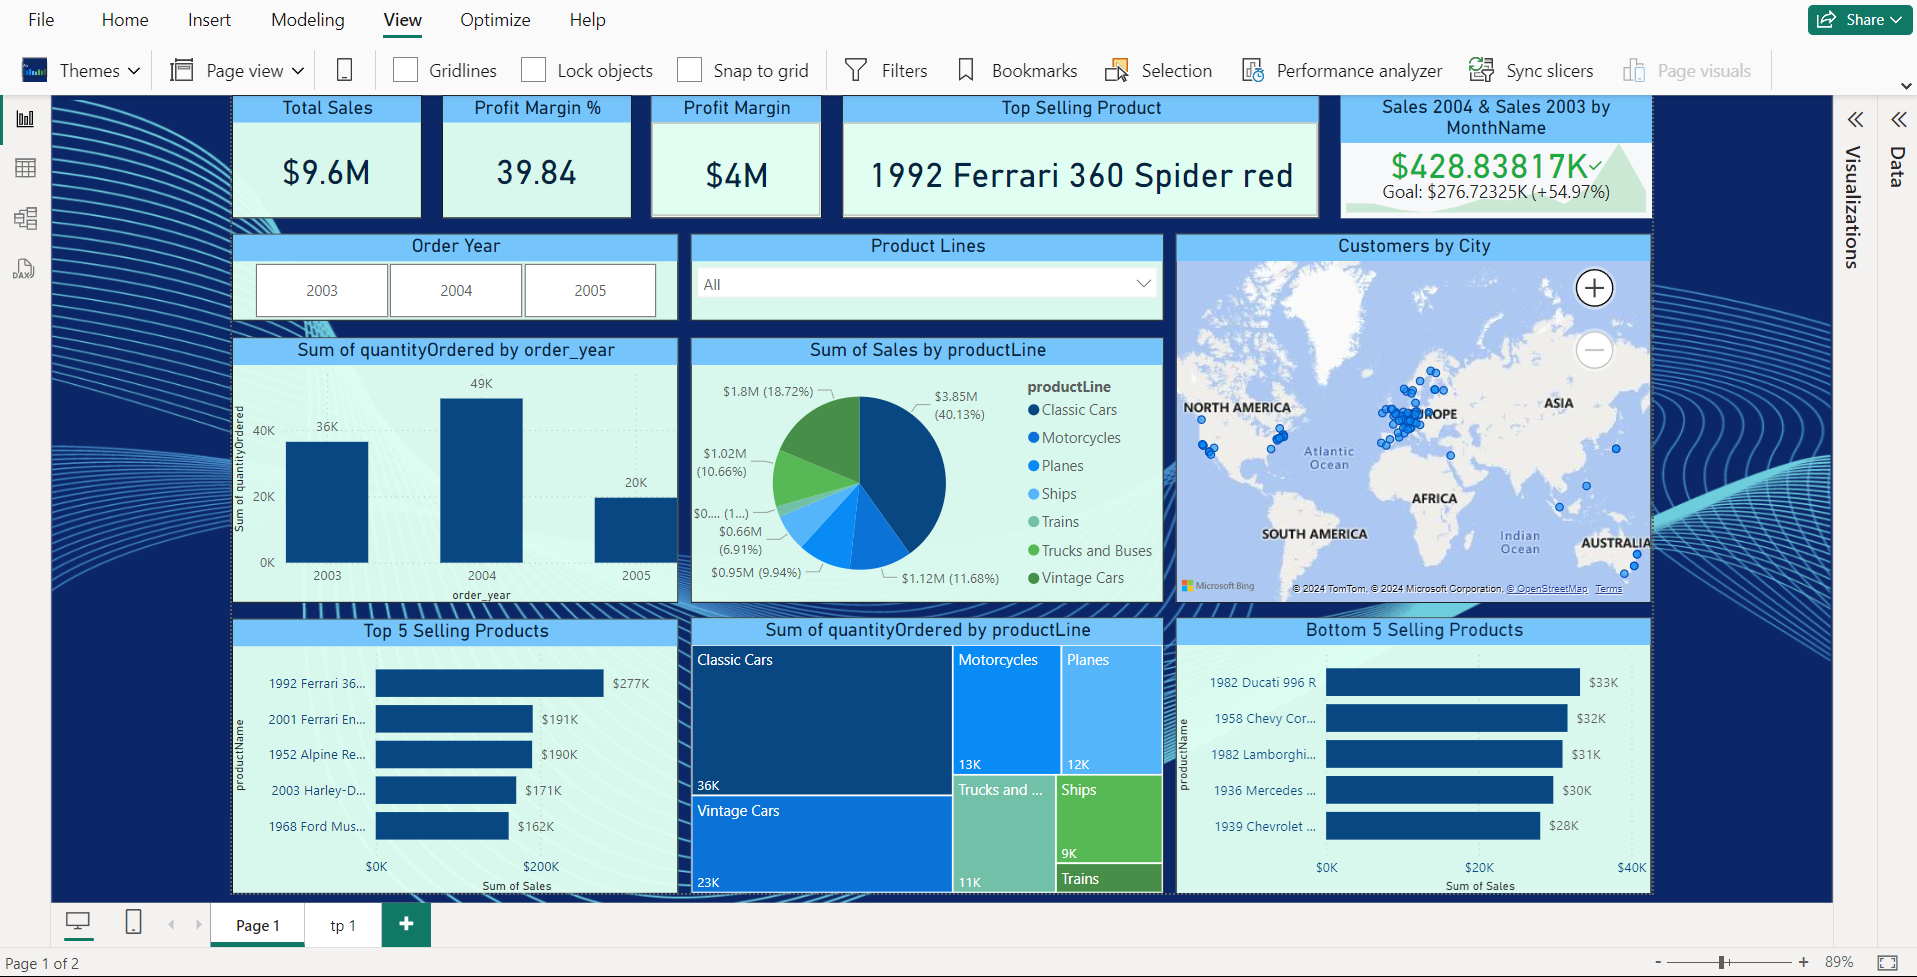

This screenshot's page, from the dashboard's own definition file:
{"tool":"powerbi","page":{"name":"Page 1","canvas":[1280,720],"ordinal":0},"visuals":[{"type":"barChart","title":"Top 5 Selling Products","fields":{"Category":["products.productName"],"Y":["Sum(order details.Sales)"]},"box":[0,472.2,402.5,248.1],"z":0},{"type":"pieChart","fields":{"Y":["Sum(order details.Sales)"],"Series":["products.productLine"]},"box":[413.9,219,426.6,239.2],"z":1000},{"type":"cardVisual","title":"Profit Margin","fields":{"Data":["order details.total_profit"]},"box":[377.8,0,154.2,111.1],"z":2000},{"type":"slicer","title":"Order Year","fields":{"Values":["orders.order_year"]},"box":[0,125.3,402.5,78.5],"z":3000},{"type":"kpi","title":"Sales 2004 & Sales 2003 by MonthName","fields":{"TrendLine":["orders.MonthName"],"Goal":["orders.Sales 2003"],"Indicator":["orders.Sales 2004"]},"box":[1000,0,280.6,111.1],"z":4000},{"type":"cardVisual","title":"Top Selling Product","fields":{"Data":["order details.MostOrderedProdact"]},"box":[550,0,430.6,111.1],"z":5000},{"type":"map","title":"Customers by City","fields":{"Category":["customers.city"]},"box":[850.6,125.3,429.1,332.9],"z":6000},{"type":"treemap","fields":{"Group":["productlines.productLine"],"Values":["Sum(order details.quantityOrdered)"]},"box":[413.9,470.9,426.6,249.4],"z":7000},{"type":"columnChart","fields":{"Category":["orders.order_year"],"Y":["Sum(order details.quantityOrdered)"]},"box":[0,219,402.5,239.2],"z":8000},{"type":"card","title":"  Profit Margin %","fields":{"Values":["classic_models_dataset (6).Profit_Margin%"]},"box":[188.9,0,170.8,111.1],"z":9000},{"type":"card","title":"Total Sales","fields":{"Values":["Sum(order details.Sales)"]},"box":[0,0,170.8,111.1],"z":10000},{"type":"slicer","title":"Product Lines","fields":{"Values":["productlines.productLine"]},"box":[413.9,125.3,426.6,78.5],"z":11000},{"type":"barChart","title":"Bottom 5 Selling Products","fields":{"Category":["products.productName"],"Y":["Sum(order details.Sales)"]},"box":[850.6,470.9,429.1,249.4],"z":12000}]}

Visuals, with their boxes on the page's 1280x720 design canvas (x1, y1, x2, y2). These are canvas units, not pixel positions in the 1917x977 screenshot, which may show the page scaled, cropped or inside an application window:
"Top 5 Selling Products" barChart: 0,472,402,720
pieChart - Sum(order details.Sales) x products.productLine: 414,219,840,458
"Profit Margin" cardVisual: 378,0,532,111
"Order Year" slicer: 0,125,402,204
"Sales 2004 & Sales 2003 by MonthName" kpi: 1000,0,1281,111
"Top Selling Product" cardVisual: 550,0,981,111
"Customers by City" map: 851,125,1280,458
treemap - productlines.productLine x Sum(order details.quantityOrdered): 414,471,840,720
columnChart - orders.order_year x Sum(order details.quantityOrdered): 0,219,402,458
"  Profit Margin %" card: 189,0,360,111
"Total Sales" card: 0,0,171,111
"Product Lines" slicer: 414,125,840,204
"Bottom 5 Selling Products" barChart: 851,471,1280,720
